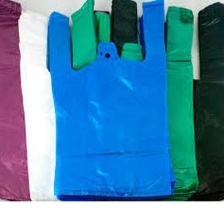plastic_bag: (65, 0, 203, 202), (44, 0, 174, 203), (99, 0, 224, 204), (0, 0, 33, 205)
